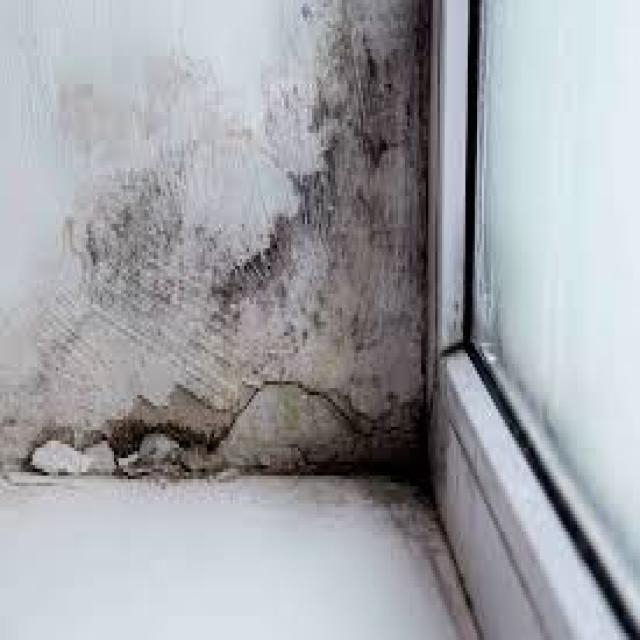dampness: (0, 1, 453, 528)
